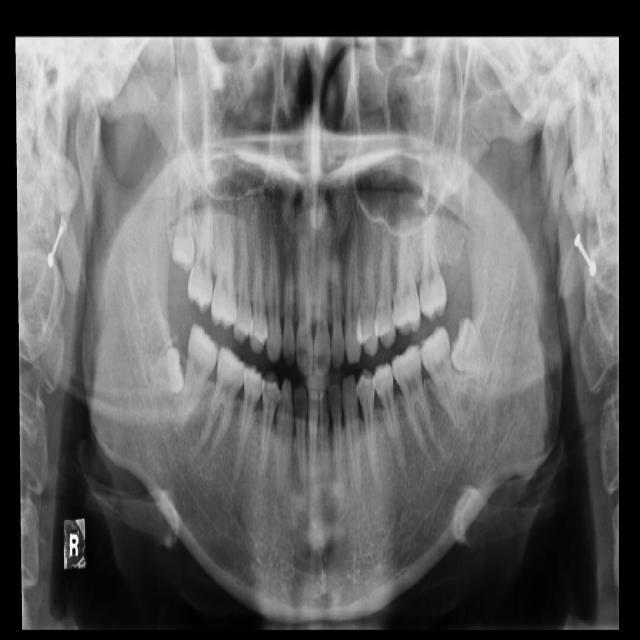3M ESPE Implant: (170, 169, 199, 273)
73: (598, 596, 604, 612)
BioHorizons Implant: (420, 217, 448, 322)
Biomet 3i Implant: (437, 315, 498, 394)
Blue Sky Bio Implant: (415, 324, 460, 423)
Caries: (186, 186, 217, 313)
Implant: (176, 322, 223, 433)
Keystone Dental Implant: (146, 342, 197, 395)
